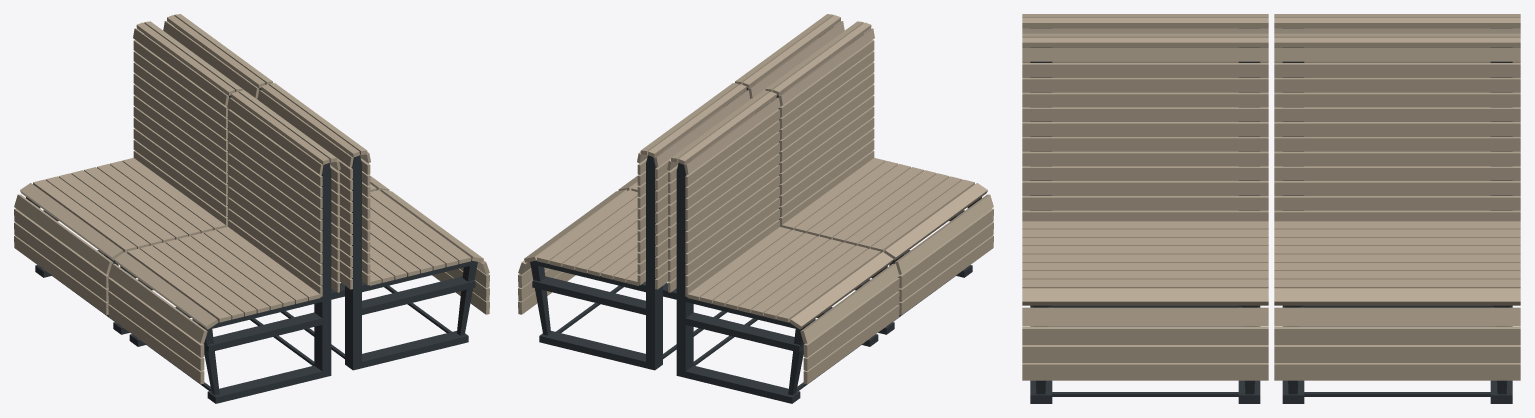
The model's file is SM_double_seats.fbx.
3 views of the same model, side by side, from view 1: azimuth 30°, elevation 25°; view 2: azimuth 150°, elevation 25°; view 3: azimuth 270°, elevation 25° (orthographic). The views are drawn at different scales.
Parts seen in each view (by area): view 1: double_seats; view 2: double_seats; view 3: double_seats.
Part boxes in pixels (left/top/right/bottom): double_seats: left=14, top=14, right=489, bottom=403; double_seats: left=518, top=14, right=993, bottom=403; double_seats: left=1022, top=14, right=1520, bottom=403.
Bounding box in the file's own units: 125 × 91.24 × 140.
